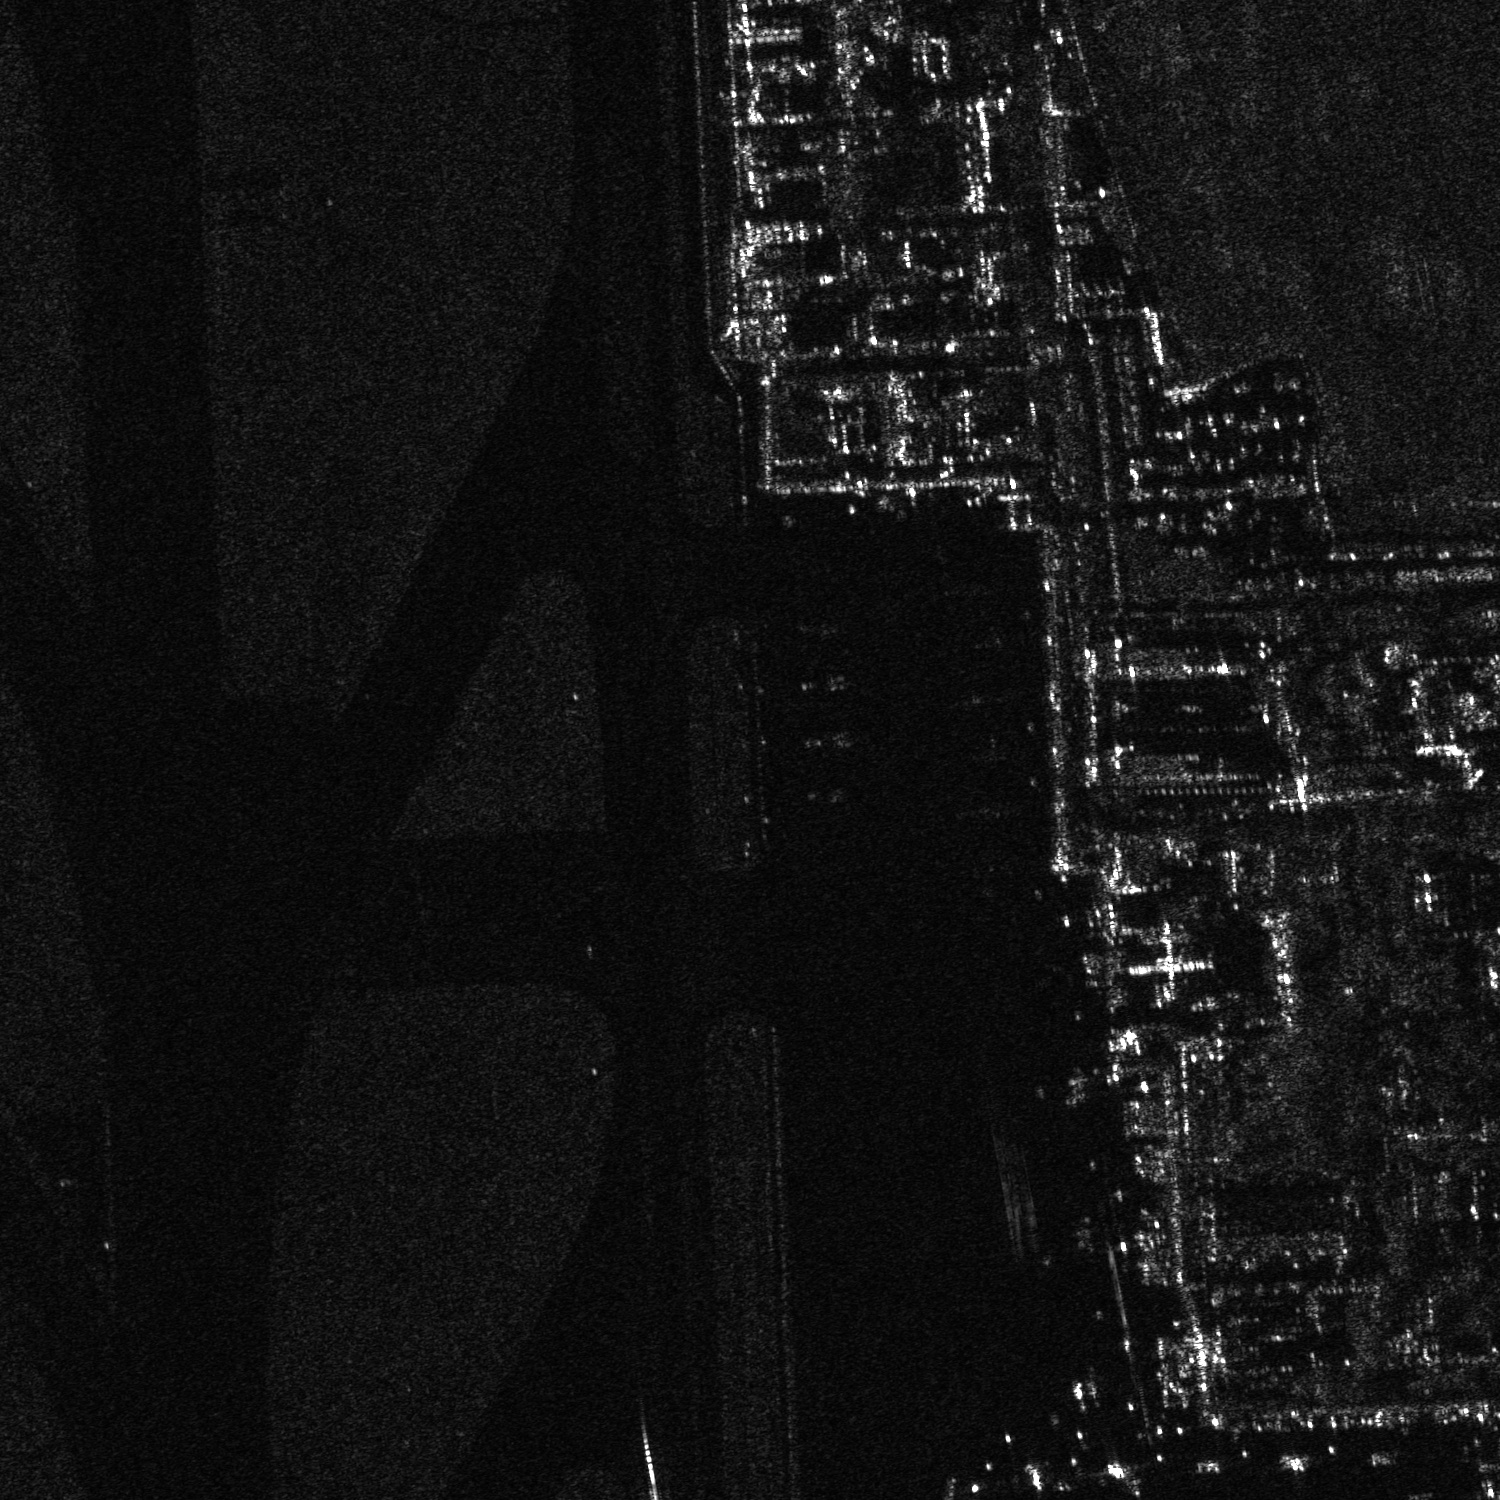ARJ21: (795, 723, 863, 762), (802, 777, 856, 808)
other: (795, 663, 853, 707)
